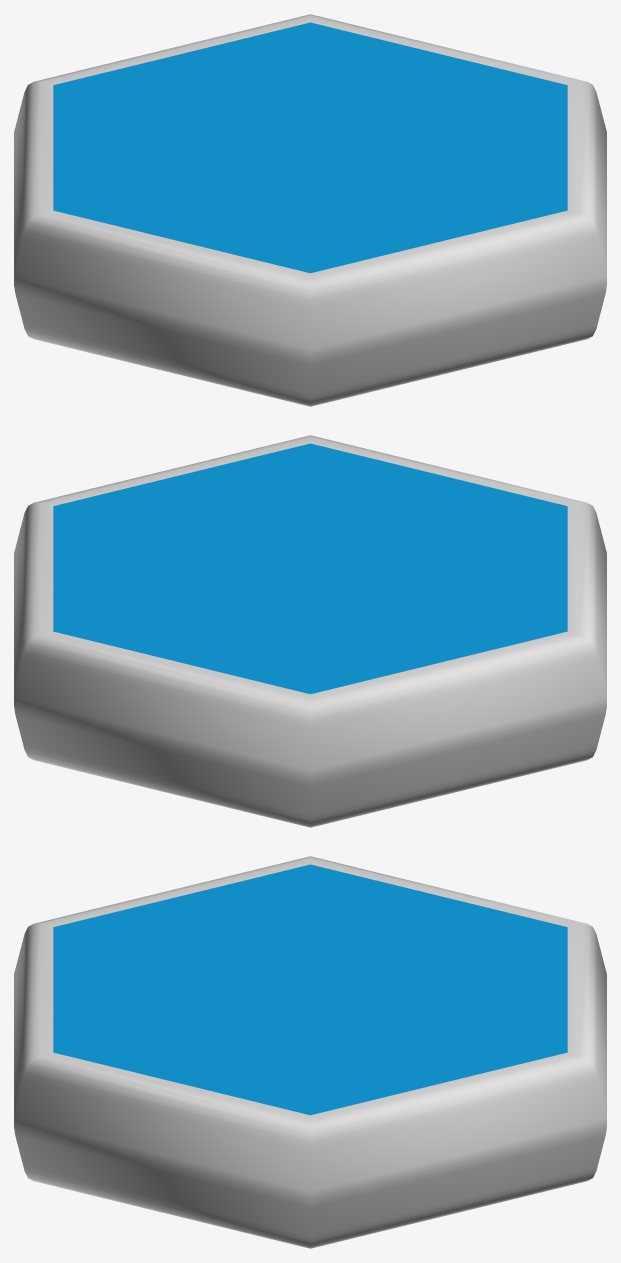
Rendered from BaseColored_MESH.fbx.
3 views of the same model, one above another, from view 1: azimuth 30°, elevation 25°; view 2: azimuth 150°, elevation 25°; view 3: azimuth 270°, elevation 25° (orthographic).
Visible parts, largest first — view 1: BaseColored; view 2: BaseColored; view 3: BaseColored.
Boxes of the visible parts, x1,y1,x2,y2 form: BaseColored: (14, 14, 606, 406); BaseColored: (14, 435, 606, 827); BaseColored: (14, 856, 606, 1248).
Bounding box in the file's own units: 241 × 48.58 × 209.
1 material, 1 textured.
